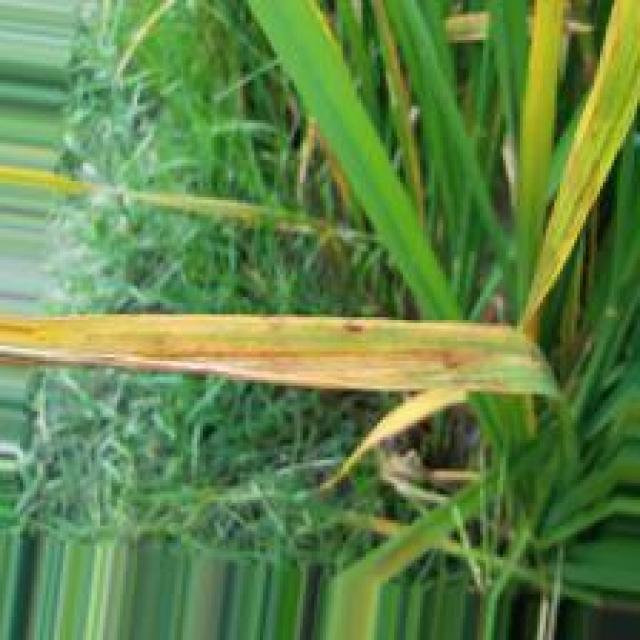Bacterial_Leaf_Blight: (0, 315, 535, 393)
